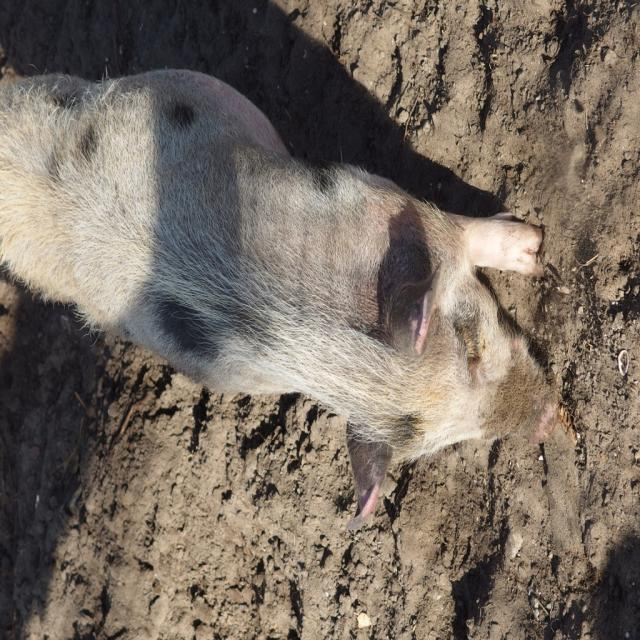Pig: (0, 63, 559, 530)
